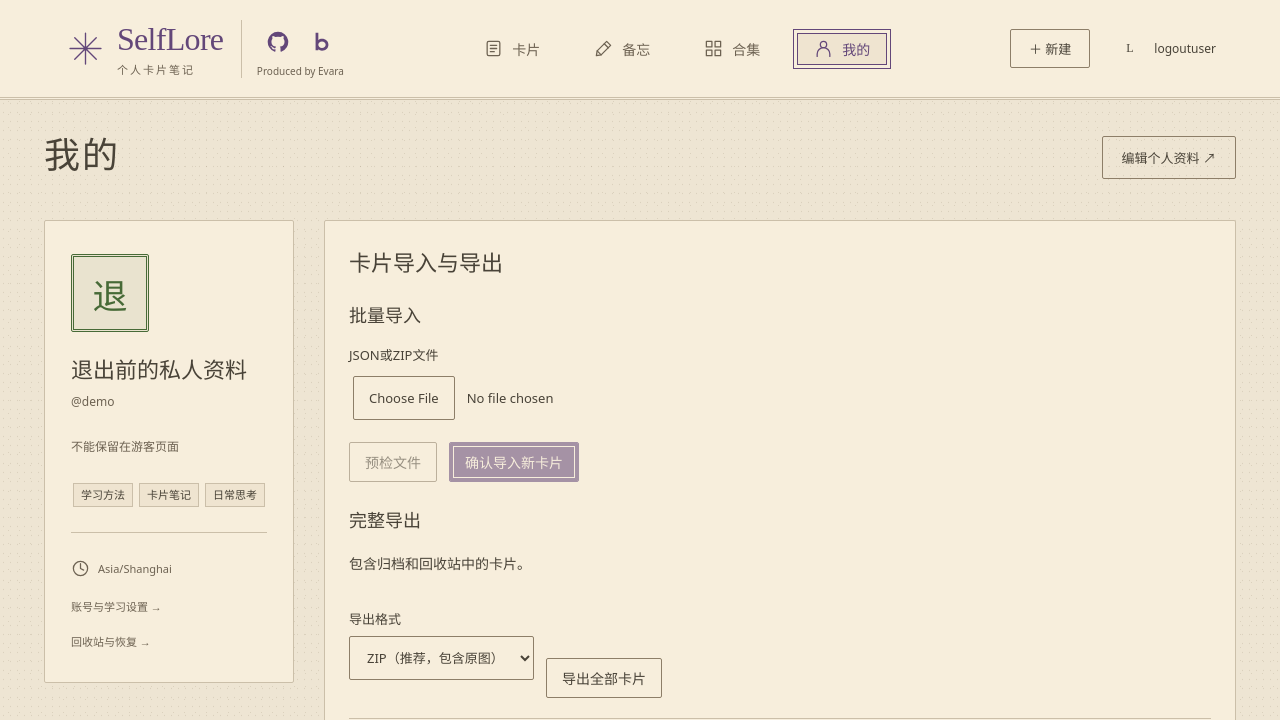
logout clears private data and restores guest browsing
Expected: the heading "退出前的私人资料" is shown, [71,352,267,384]
Click the button "L logoutuser" at (1165, 48), box [1113,32,1216,65]
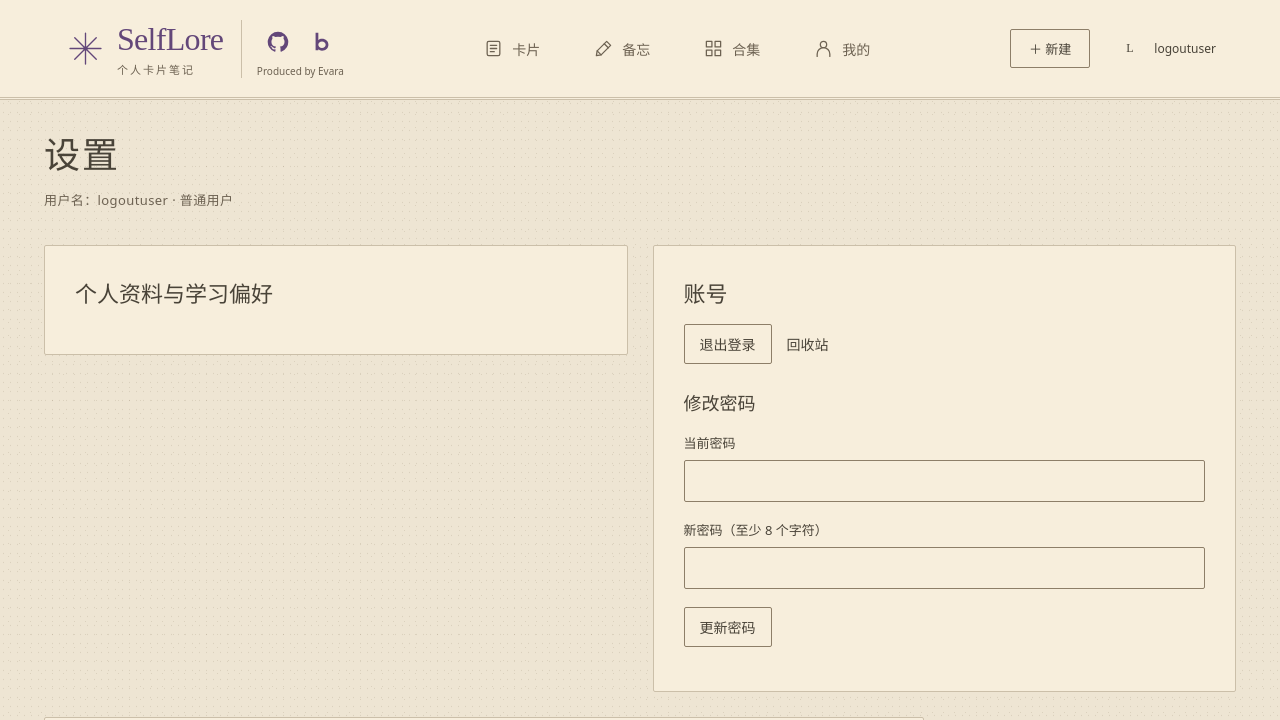
Click the button "退出登录" at (728, 344), box [684,324,772,364]
(page scrolled)
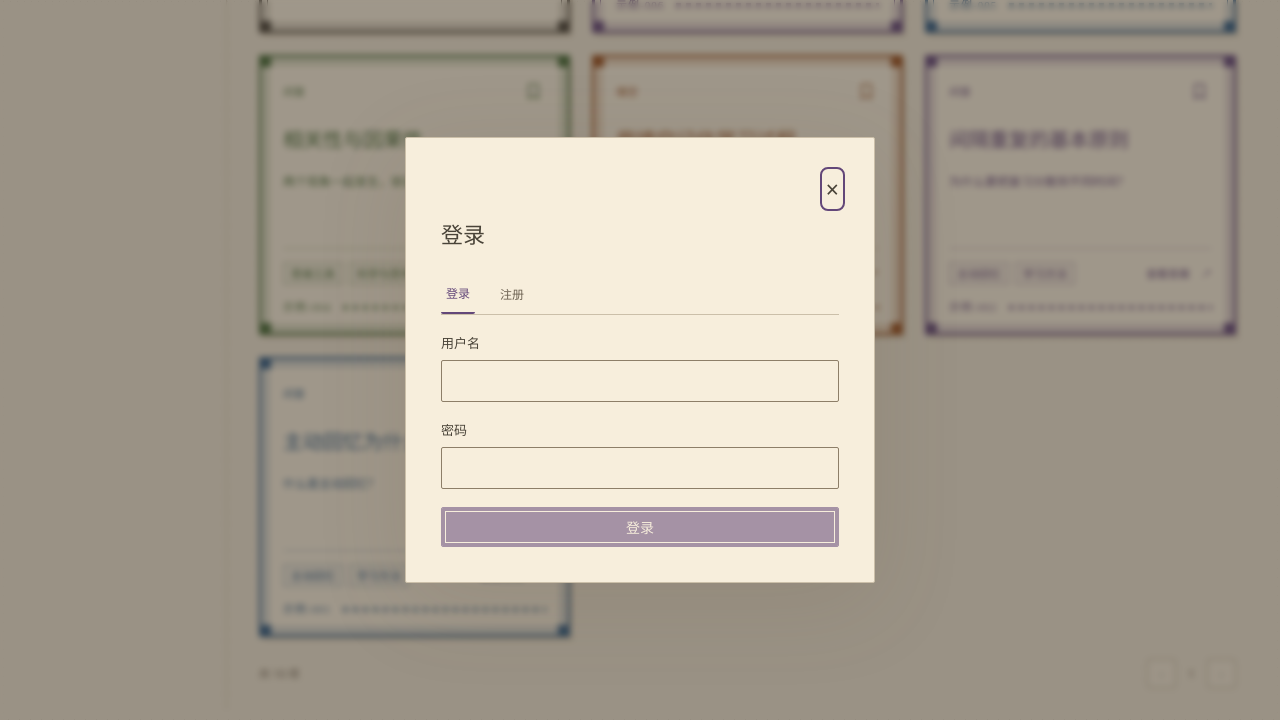
Expected: the text "不能保留在游客页面" is not shown
Result: the link "主动回忆为什么有效？" is shown at [283,431,483,453]
